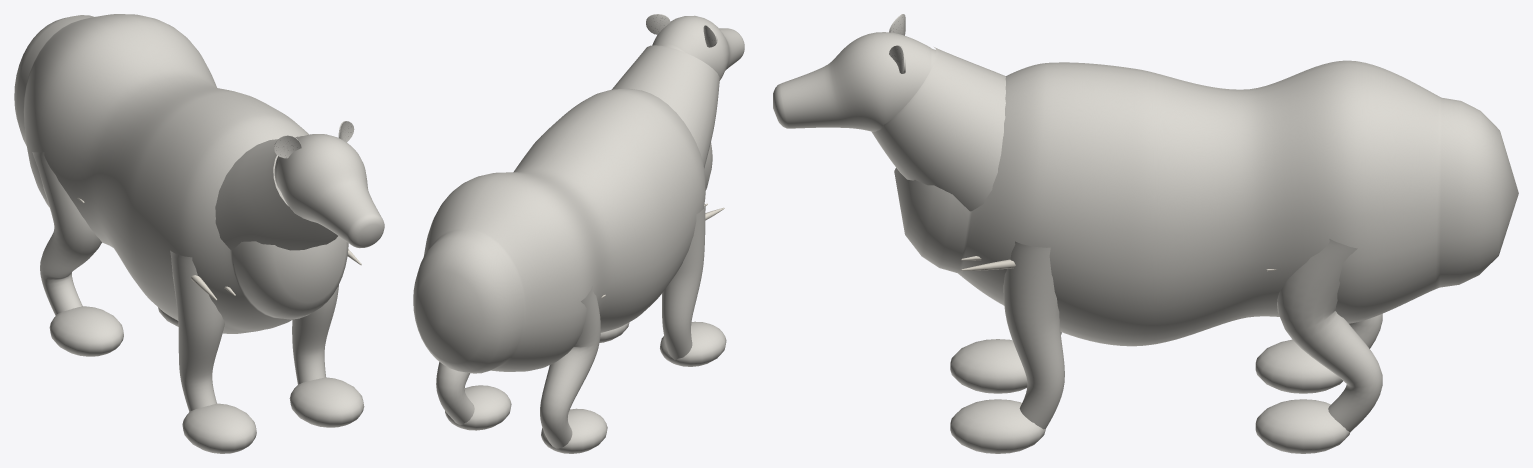
The model's file is other-polar-bear.glb.
3 renders of one model, left to right at view 1: azimuth 30°, elevation 25°; view 2: azimuth 150°, elevation 25°; view 3: azimuth 270°, elevation 25°, orthographic. The views are drawn at different scales.
Parts seen in each view (by area): view 1: polar-bear; view 2: polar-bear; view 3: polar-bear.
Boxes of the visible parts, left/top/right/bottom form: polar-bear: left=14, top=14, right=384, bottom=453; polar-bear: left=413, top=14, right=744, bottom=453; polar-bear: left=773, top=14, right=1518, bottom=453.
Bounding box in the file's own units: 26298 × 48691 × 85073.
Materials: 4 (1 with a texture image).
